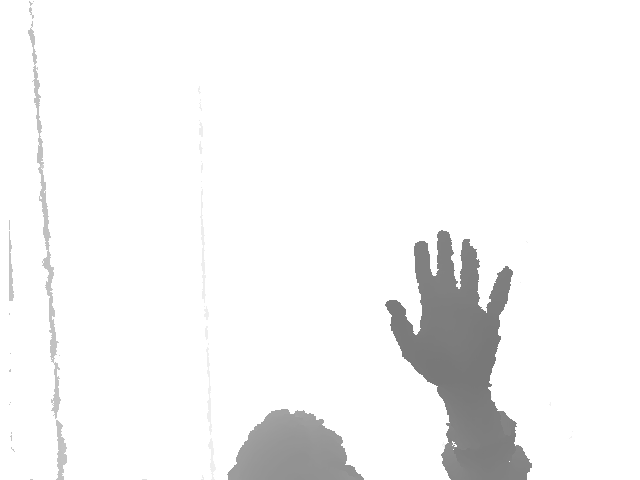hand: (385, 230, 512, 407)
head: (227, 408, 363, 477)
person: (228, 230, 532, 479)
